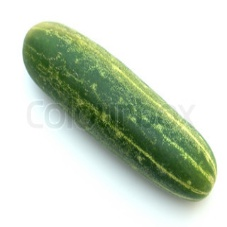cucumber: (22, 22, 218, 202)
